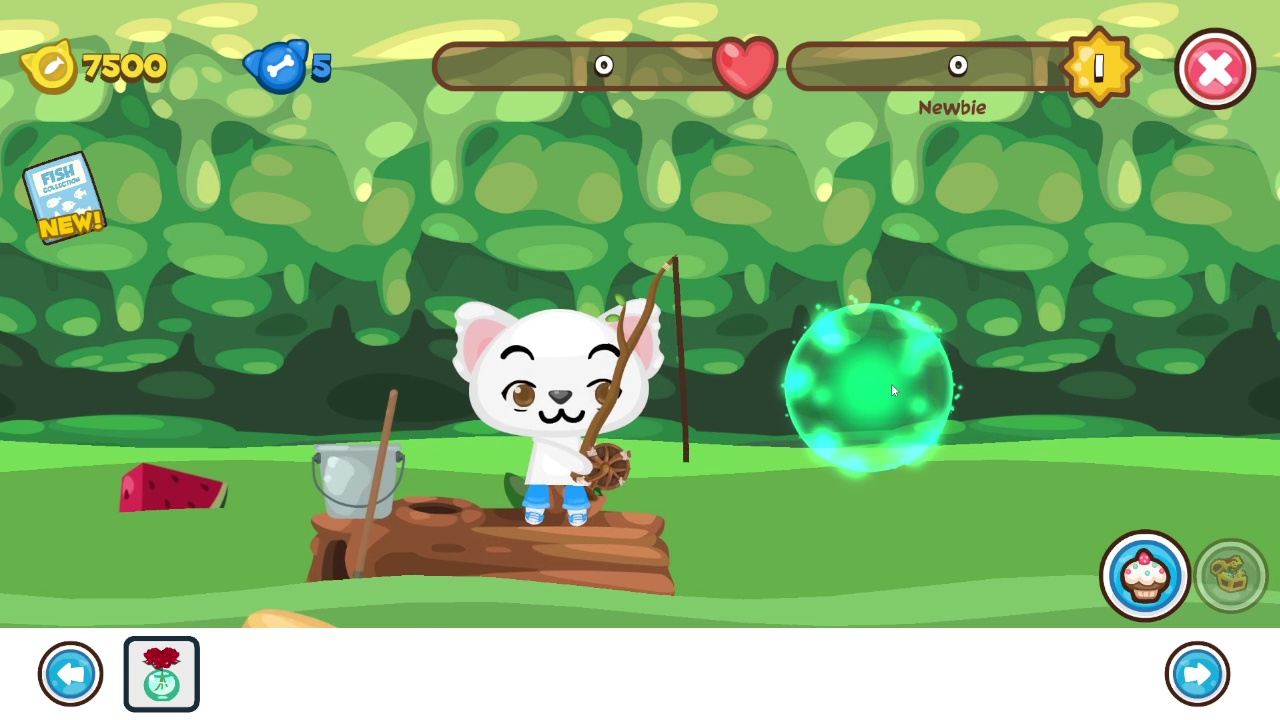point: (786, 303, 955, 473)
